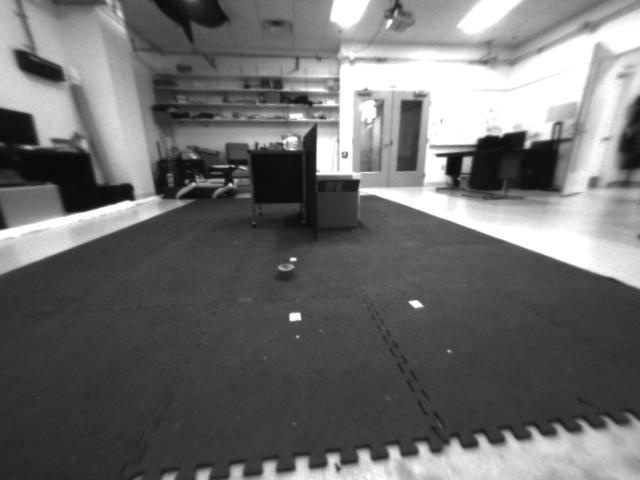dogtoy: (265, 251, 299, 287)
